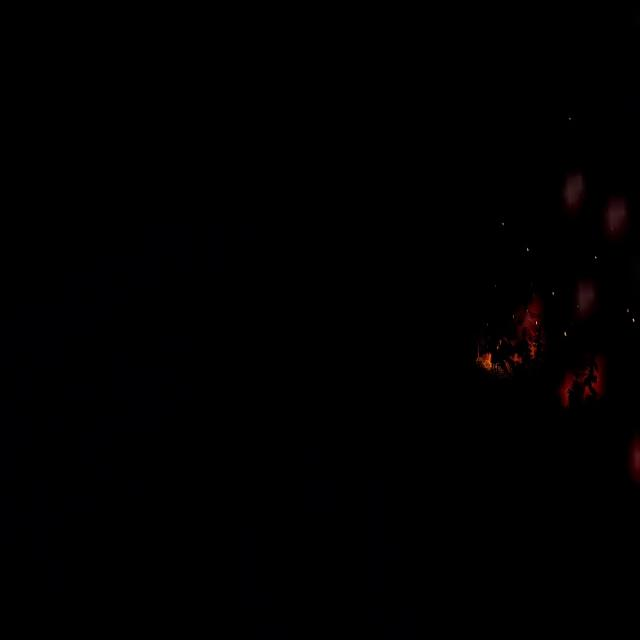fire: (514, 294, 548, 366), (559, 354, 603, 407), (476, 347, 503, 379)
smoke: (561, 170, 629, 324), (604, 196, 630, 238), (562, 170, 585, 211), (576, 278, 598, 319), (627, 436, 640, 492)
